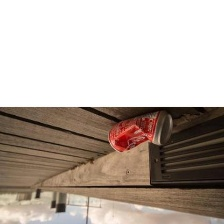can: (103, 105, 179, 157)
